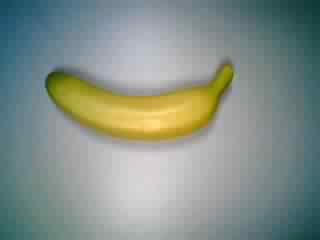banana: (40, 57, 237, 148)
